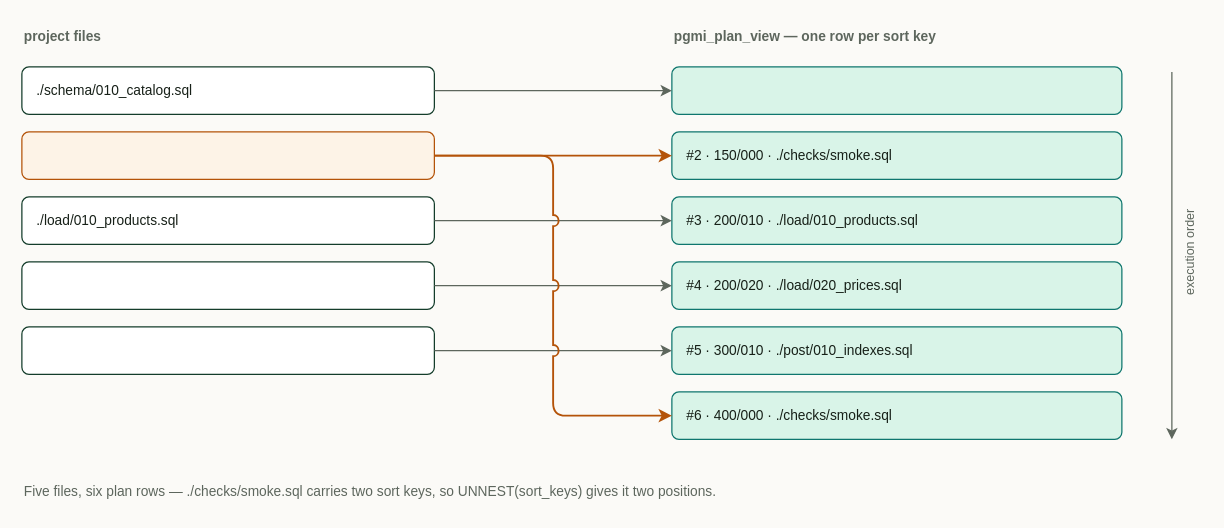
Some shapes in this 1224 by 528 pixel diagram are drawn without their labels. Here are the shapes that lost their labels. From the top down, the centre of each, then its label:
point 896,90: #1 · 100/010 · ./schema/010_catalog.sql
point 227,155: ./checks/smoke.sql · sortKeys 150/000, 400/000
point 227,285: ./load/020_prices.sql
point 227,350: ./post/010_indexes.sql
